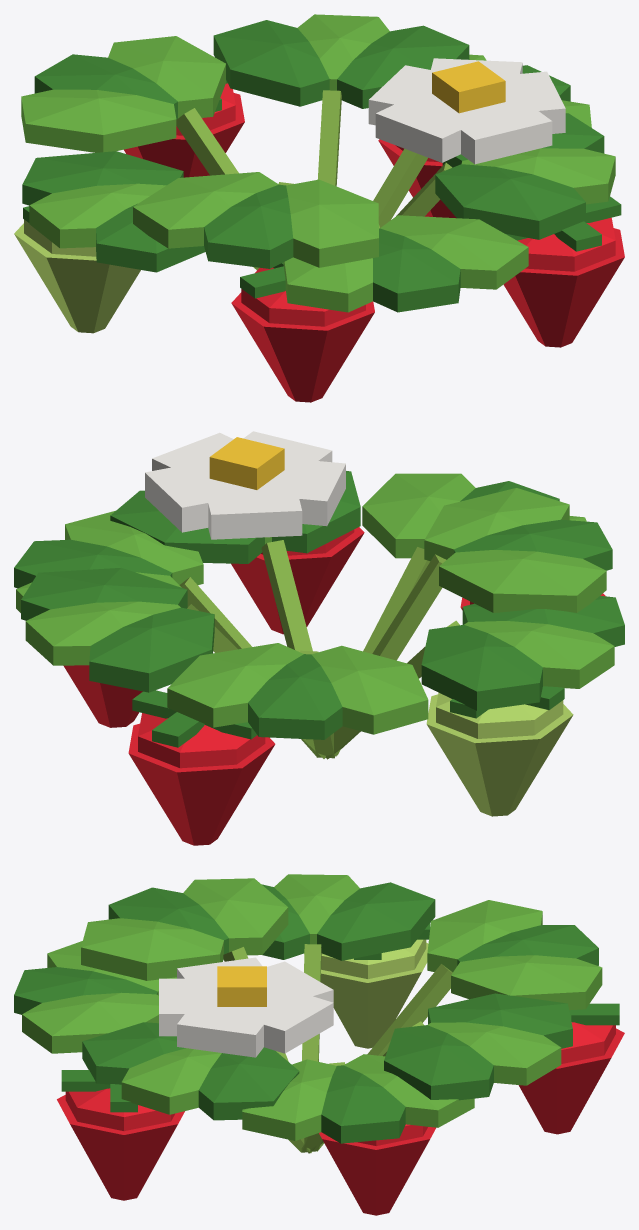
The model's file is strawberry_4.obj.
The picture shows the model from 3 angles, top to bottom: view 1: azimuth 30°, elevation 25°; view 2: azimuth 150°, elevation 25°; view 3: azimuth 270°, elevation 25°; orthographic projection. The views are drawn at different scales.
Visible parts, largest first — view 1: plant; view 2: plant; view 3: plant.
Part boxes in pixels (x1,y1,x2,y2): plant: (14, 14, 624, 402); plant: (14, 431, 624, 845); plant: (14, 874, 624, 1215).
Size of the model in its own units: 0.4173 by 0.1788 by 0.4413.
